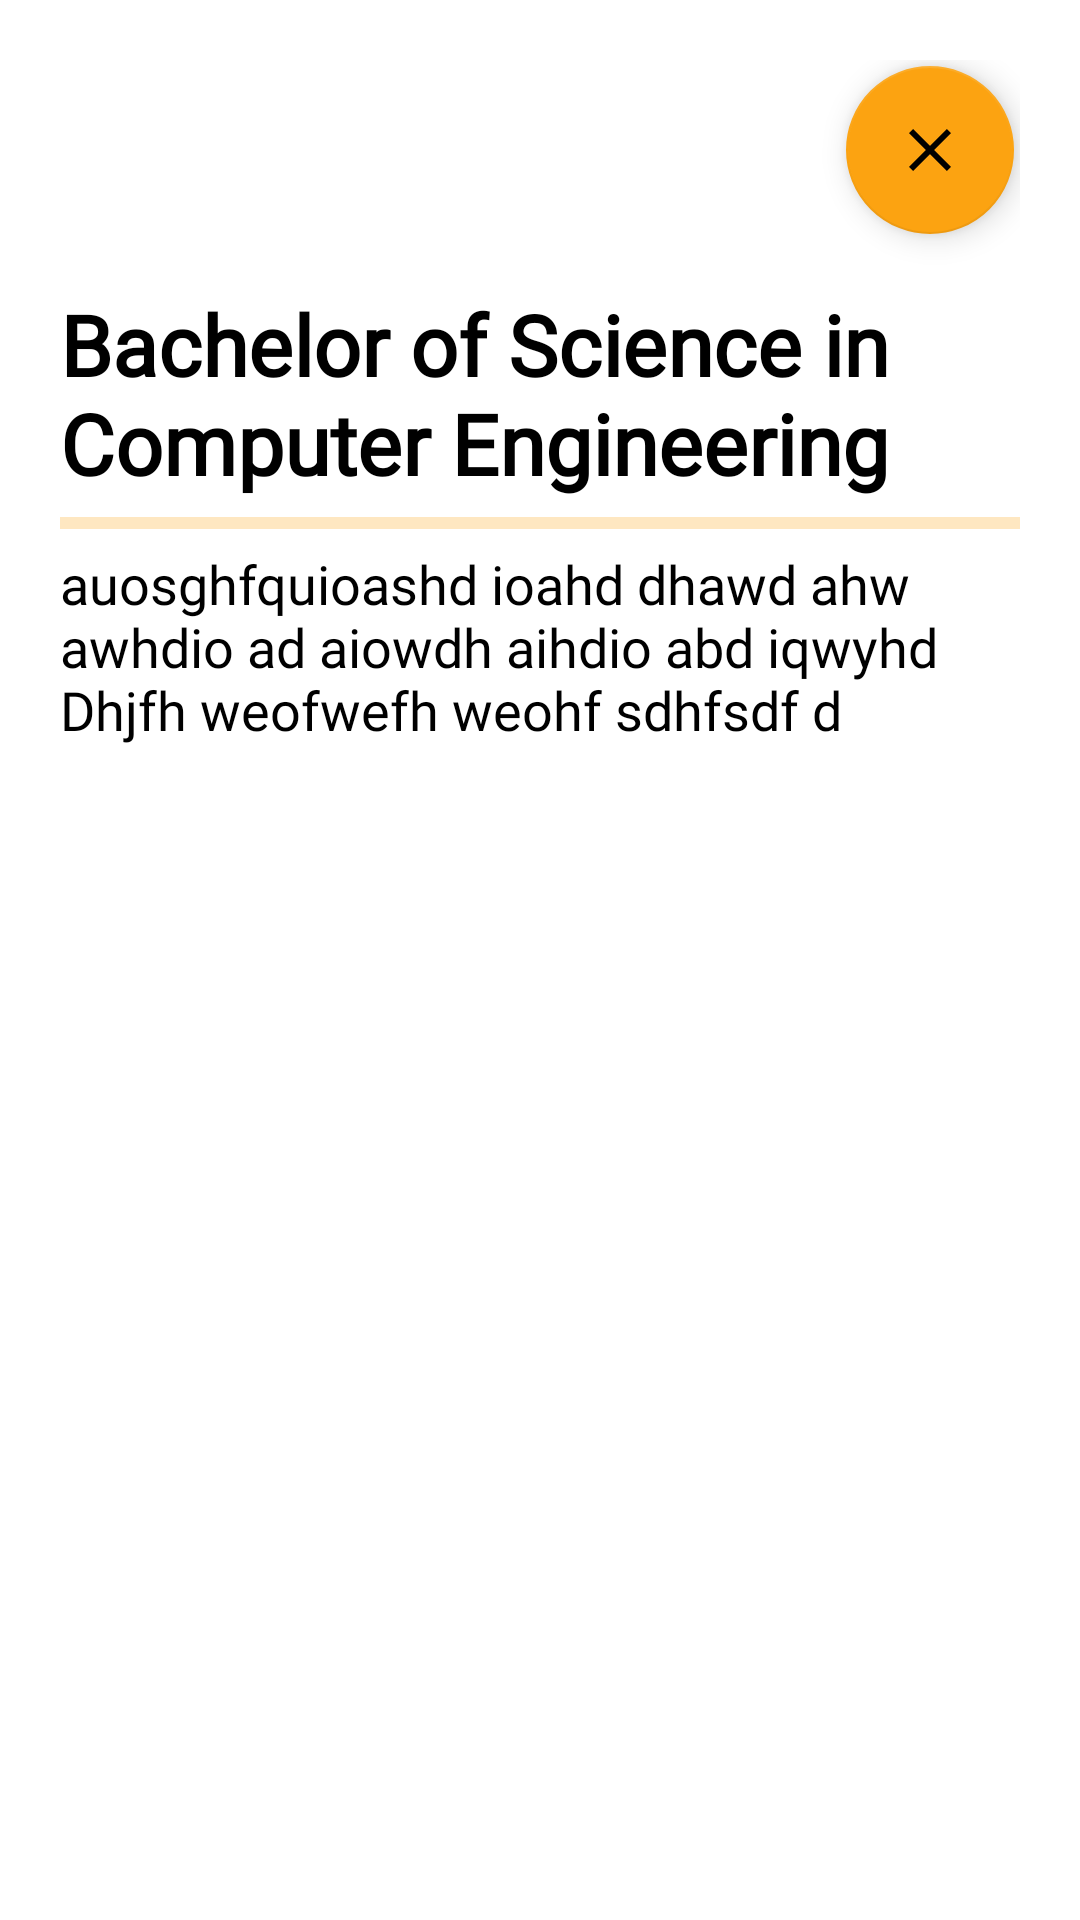

Where to tap for icons on this 1080px×1920px app screen, as (x=x, y=y):
close: (x=930, y=150)
